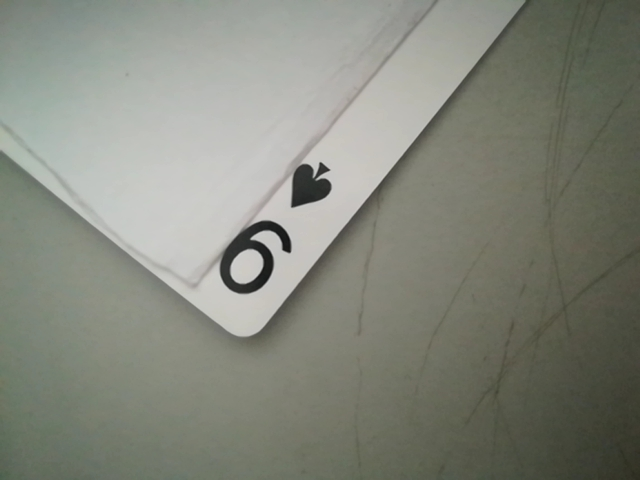ht 9: (201, 156, 345, 318)
